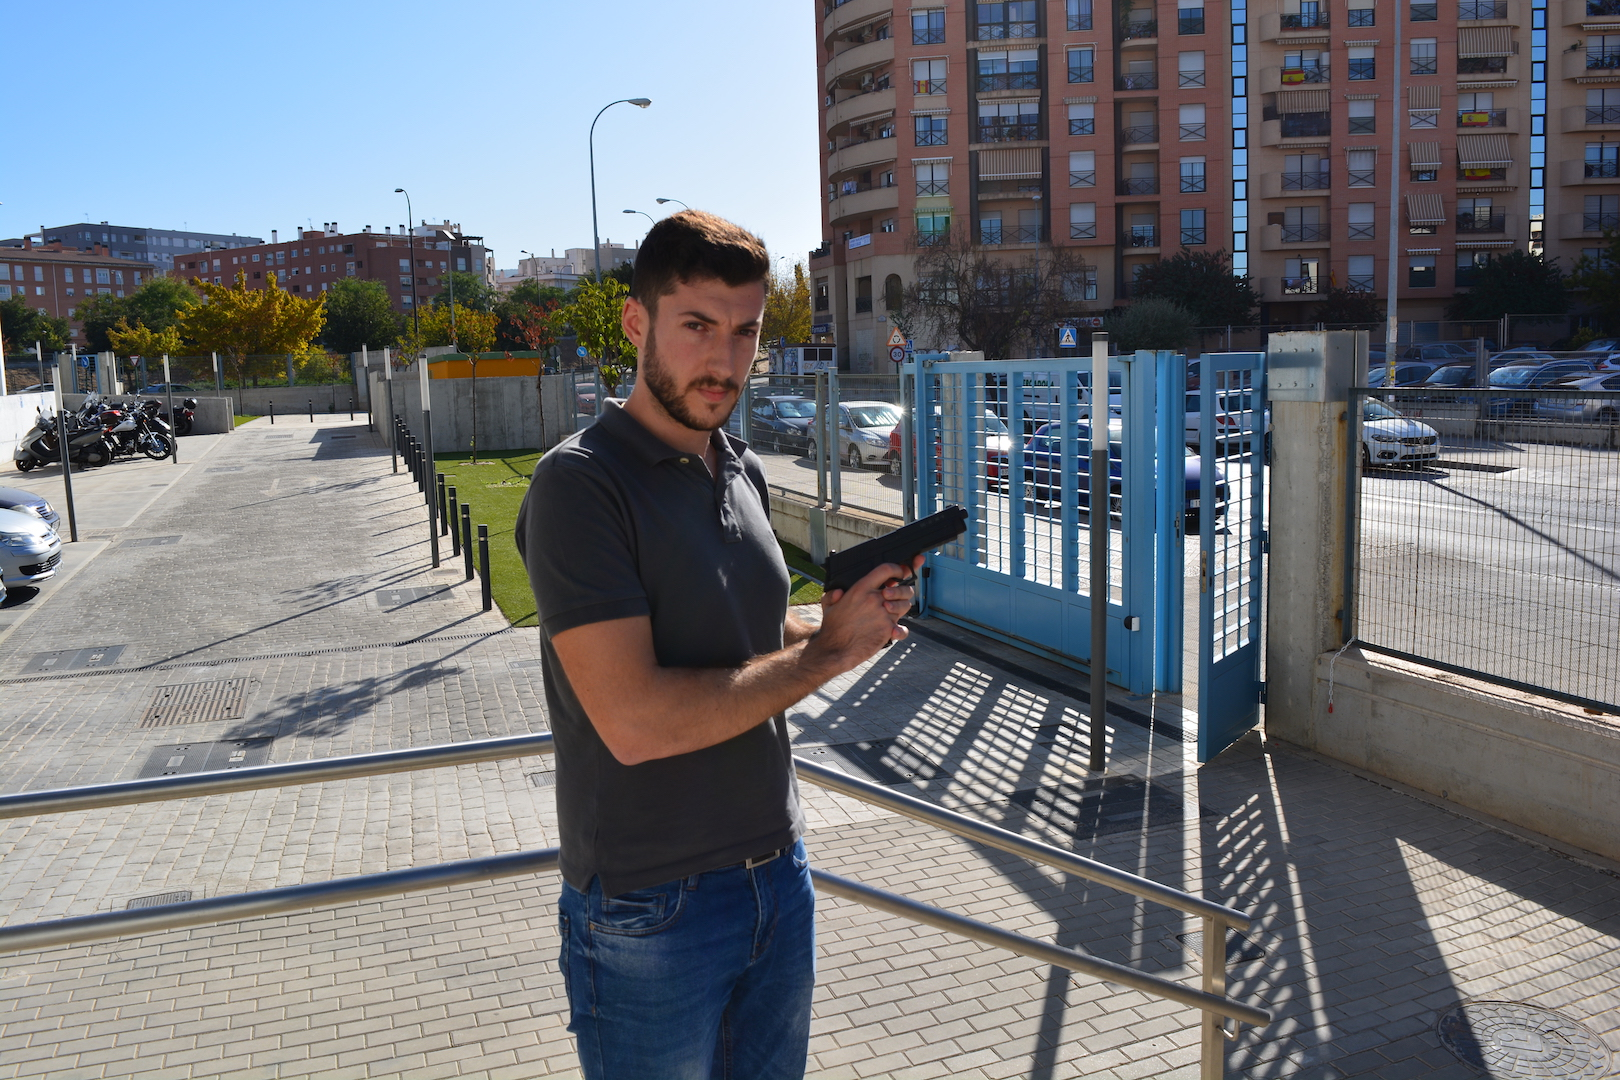pistol: (820, 503, 970, 650)
